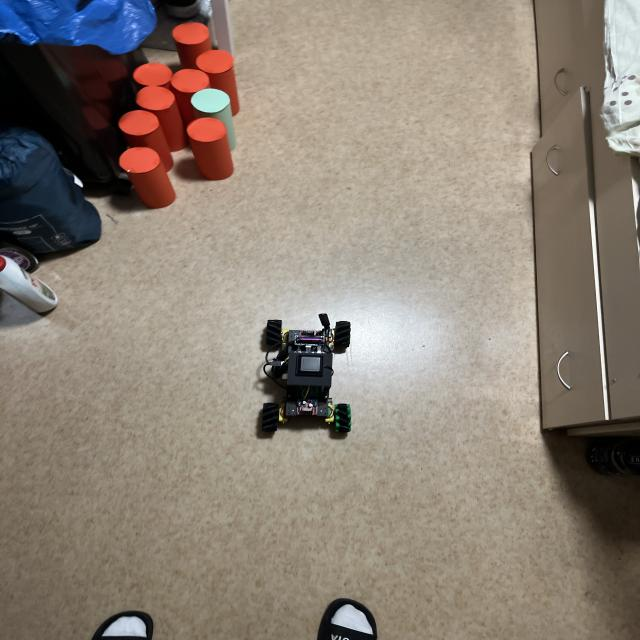robot: (261, 313, 351, 433)
